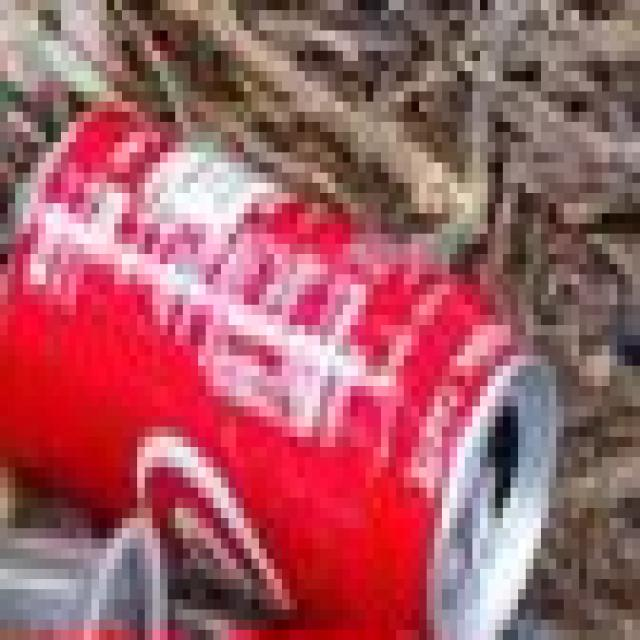can: (5, 0, 640, 613)
